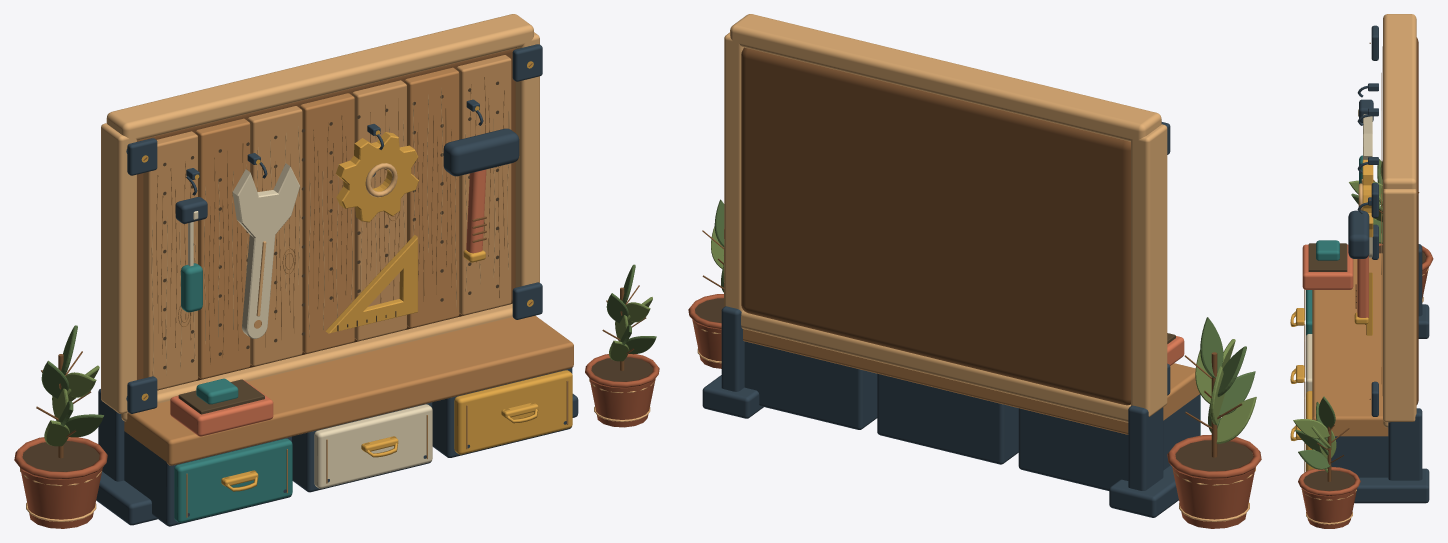
Rendered from workshop-tool-rack-medium.glb.
3 views of the same model, side by side, from view 1: azimuth 30°, elevation 25°; view 2: azimuth 150°, elevation 25°; view 3: azimuth 270°, elevation 25° (orthographic). The views are drawn at different scales.
Parts seen in each view (by area): view 1: timber, plank, edge, navy, brass, cream, teal, pot, grain, darkWood, coral, grainLight (+4 smaller); view 2: darkWood, edge, navy, pot, timber, leaf, leafLight, soil; view 3: edge, navy, timber, pot, coral, brass, leaf, darkWood, leafLight, cream, soil, teal (+3 smaller).
Part boxes in pixels (left/top/right/bottom): timber: left=124, top=67, right=573, bottom=465; plank: left=143, top=55, right=511, bottom=389; edge: left=20, top=14, right=654, bottom=521; navy: left=96, top=44, right=578, bottom=526; brass: left=141, top=61, right=572, bottom=491; cream: left=188, top=163, right=432, bottom=488; teal: left=174, top=263, right=292, bottom=522; pot: left=14, top=354, right=659, bottom=528; grain: left=156, top=77, right=568, bottom=517; darkWood: left=36, top=48, right=646, bottom=458; coral: left=170, top=169, right=486, bottom=436; grainLight: left=151, top=88, right=509, bottom=375; darkWood: left=702, top=47, right=1242, bottom=457; edge: left=693, top=14, right=1255, bottom=521; navy: left=702, top=122, right=1200, bottom=517; pot: left=688, top=294, right=1261, bottom=528; timber: left=743, top=329, right=1200, bottom=434; leaf: left=714, top=199, right=1255, bottom=432; leafLight: left=711, top=226, right=1256, bottom=443; soil: left=695, top=298, right=1253, bottom=471; edge: left=1302, top=14, right=1428, bottom=524; navy: left=1318, top=25, right=1429, bottom=503; timber: left=1312, top=68, right=1388, bottom=436; pot: left=1298, top=243, right=1433, bottom=528; coral: left=1302, top=244, right=1368, bottom=317; brass: left=1290, top=159, right=1373, bottom=471; leaf: left=1295, top=159, right=1382, bottom=469; darkWood: left=1312, top=37, right=1419, bottom=481; leafLight: left=1293, top=180, right=1382, bottom=472; cream: left=1306, top=109, right=1372, bottom=392; soil: left=1303, top=245, right=1426, bottom=490; teal: left=1306, top=155, right=1362, bottom=335.
Size of the model in its own units: 2.04 by 1.25 by 0.5082.
